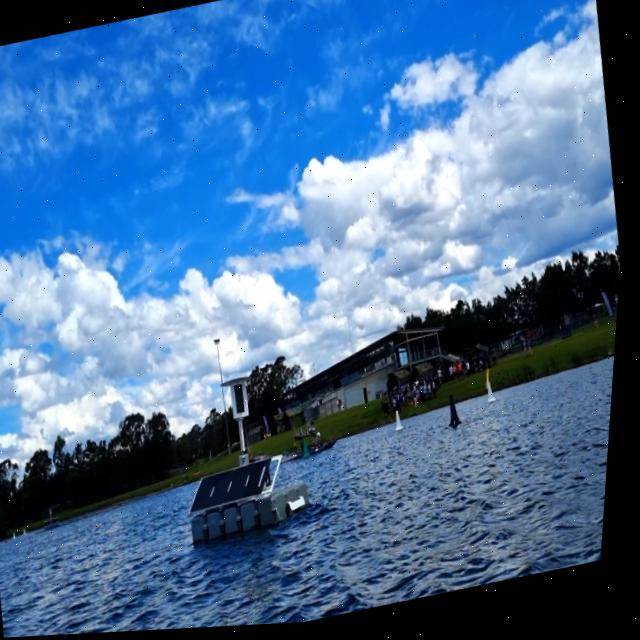led: (235, 383, 256, 421)
